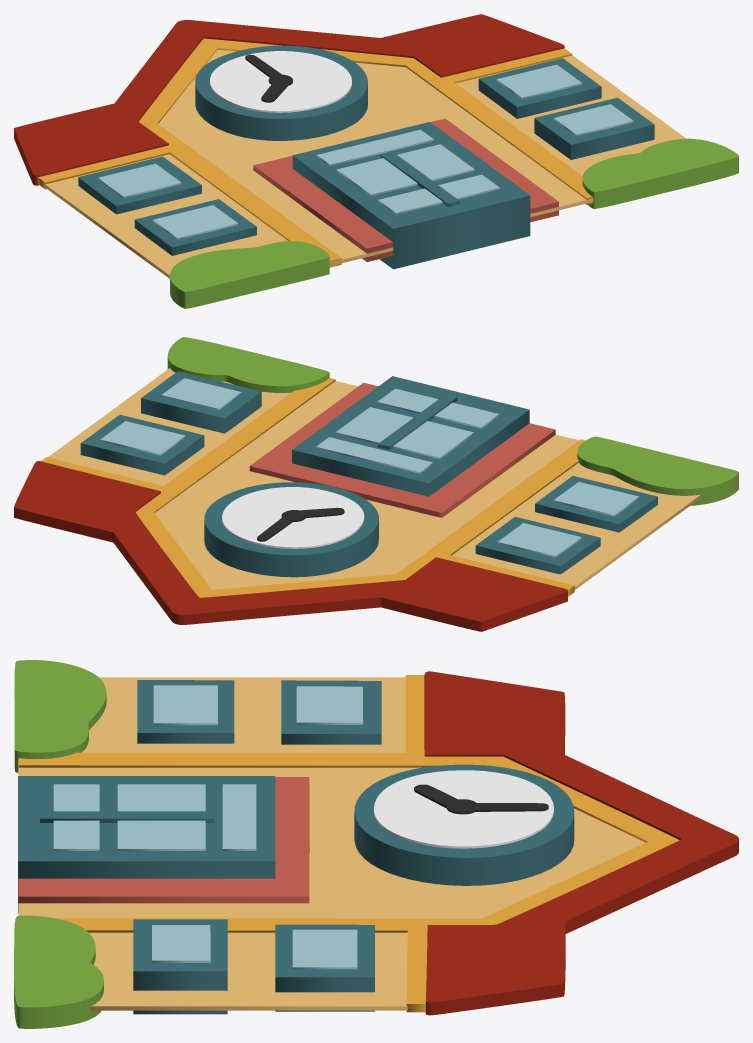
Rendered from emoji_u1f3eb.glb.
3 renders of one model, top to bottom at view 1: azimuth 30°, elevation 25°; view 2: azimuth 150°, elevation 25°; view 3: azimuth 270°, elevation 25°, orthographic. The views are drawn at different scales.
Parts seen in each view (by area): view 1: emoji_u1f3eb; view 2: emoji_u1f3eb; view 3: emoji_u1f3eb.
Boxes of the visible parts, x1,y1,x2,y2 form: emoji_u1f3eb: (14, 14, 738, 308); emoji_u1f3eb: (14, 337, 738, 631); emoji_u1f3eb: (14, 660, 738, 1028).
Bounding box in the file's own units: 0.0346 × 0.0032 × 0.0305.
